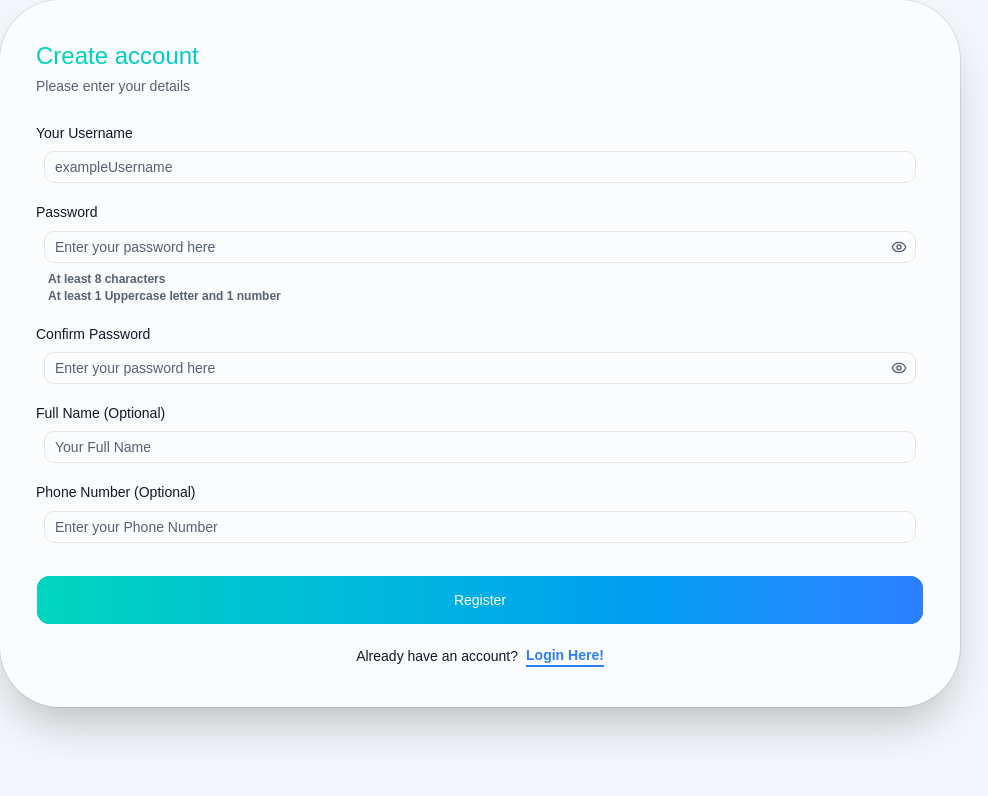
Scenario: Register Page › handles standard Error instances from the API
Type "KhangNguyen" into the field labelled "Your Username". click: (480,167)
box: [44,151,916,183]
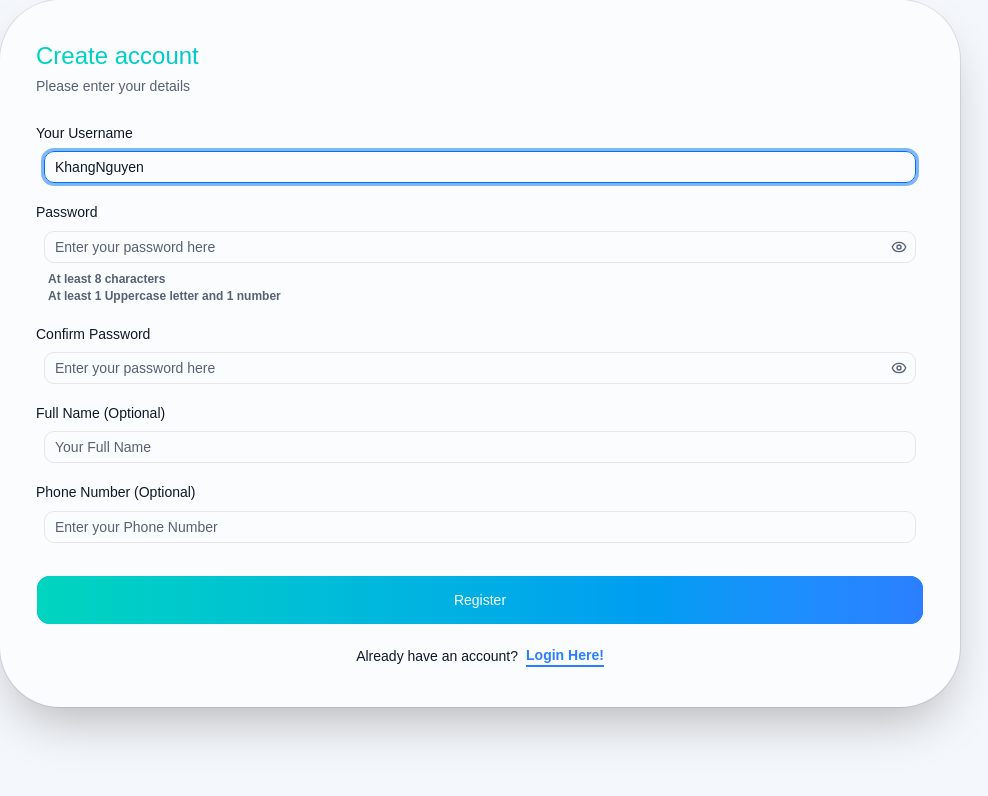
Type "StrongPass123" into the password field labelled "Password". click: (468,246)
box: [45,230,891,262]
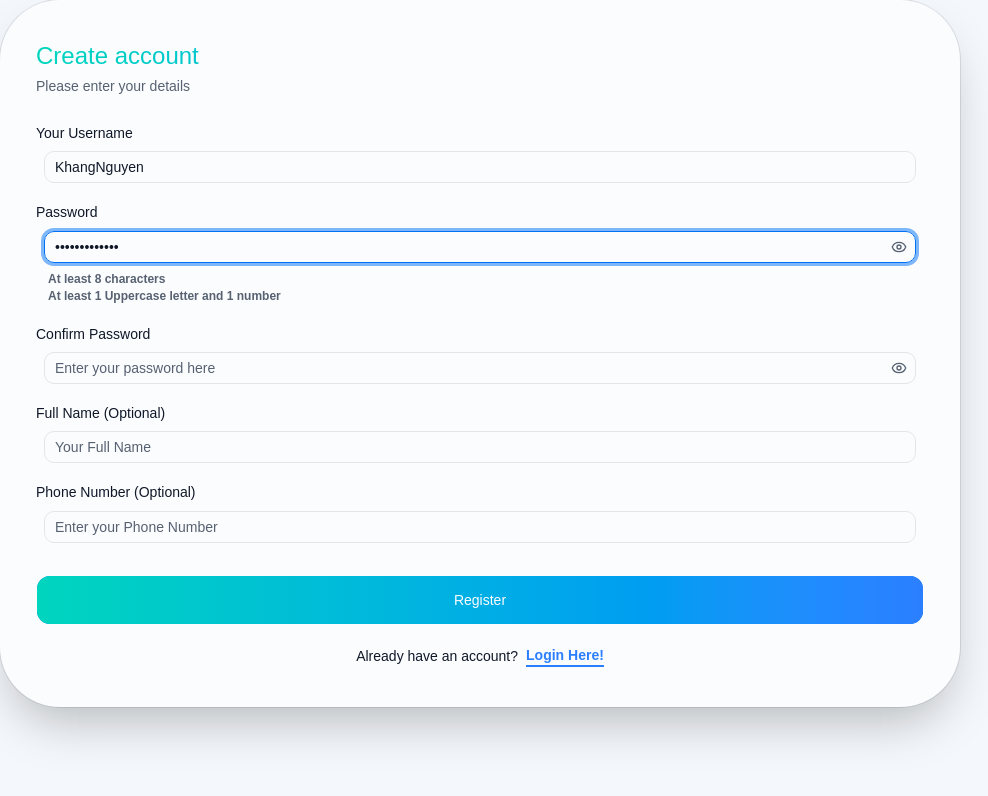
Type "StrongPass123" into the password field labelled "Confirm Password". click: (468,368)
box: [45,352,891,384]
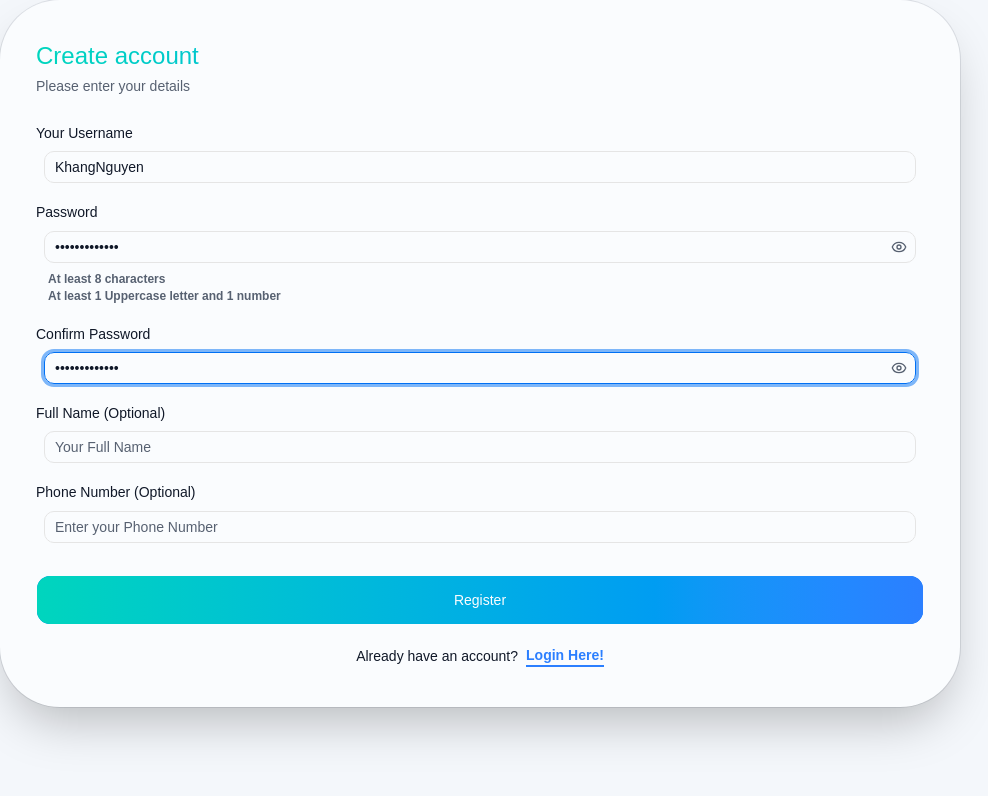
Click the button "Register". click: (480,600)
box: [36,574,924,624]
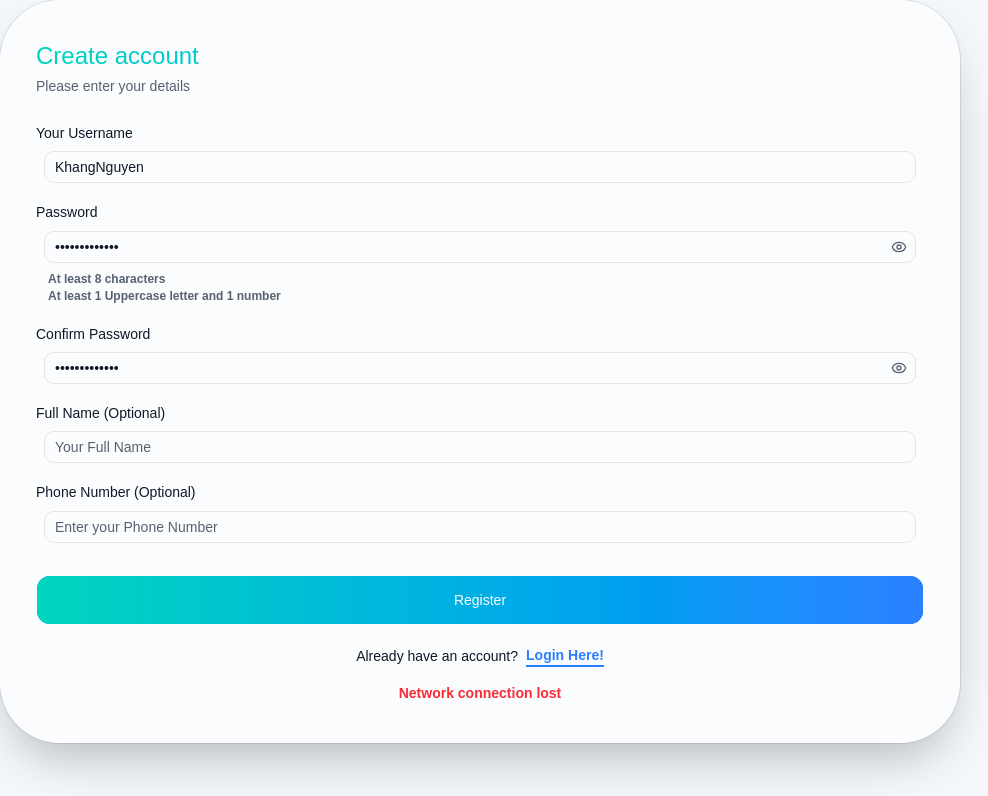
Check: the text "Network connection lost" is shown, box [399,684,561,700]
